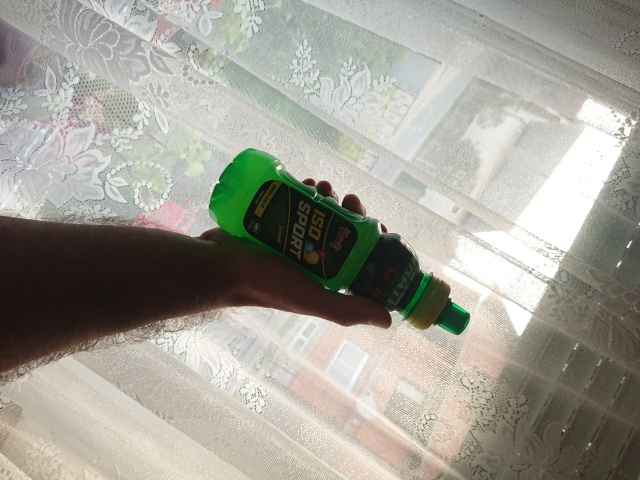Vindi Iso Sport Lemon-Grapefruit 500mL: (205, 146, 473, 338)
